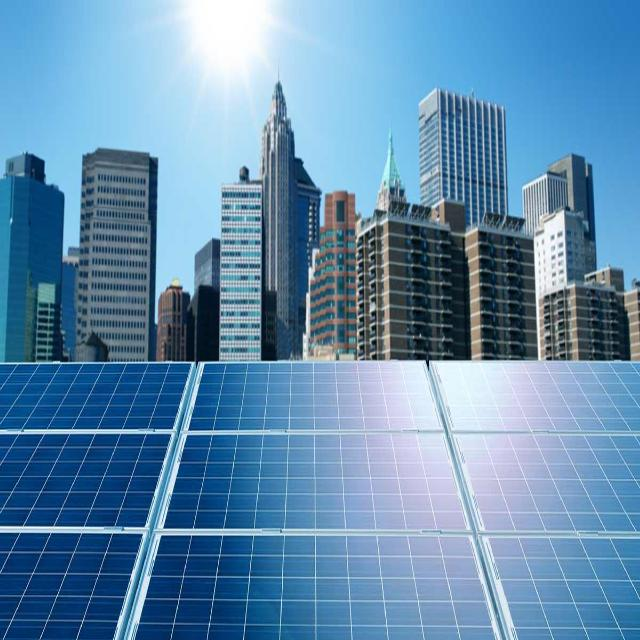clean-solar-panel: (1, 363, 640, 638)
